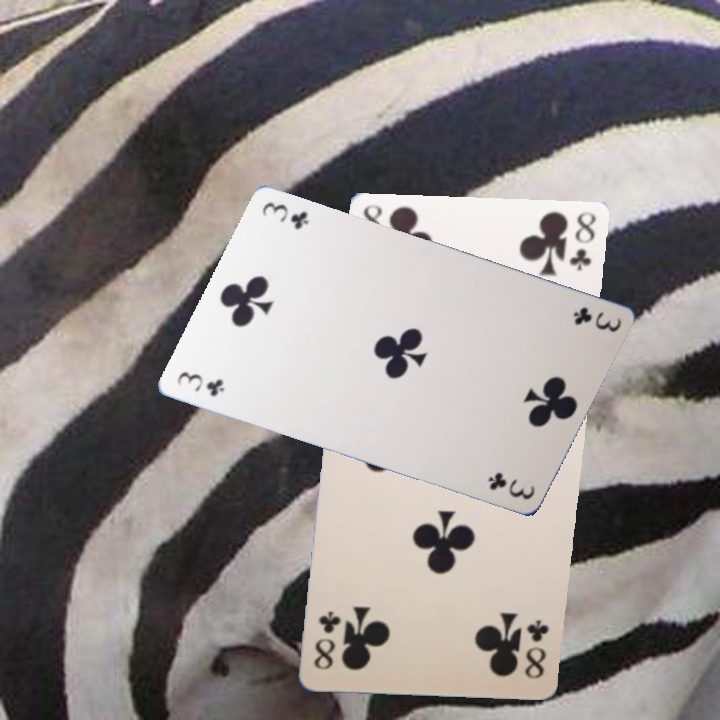3c: (475, 467, 540, 506), (251, 196, 316, 235), (561, 299, 625, 338), (166, 364, 230, 403)
8c: (308, 608, 342, 680), (519, 616, 553, 687)
